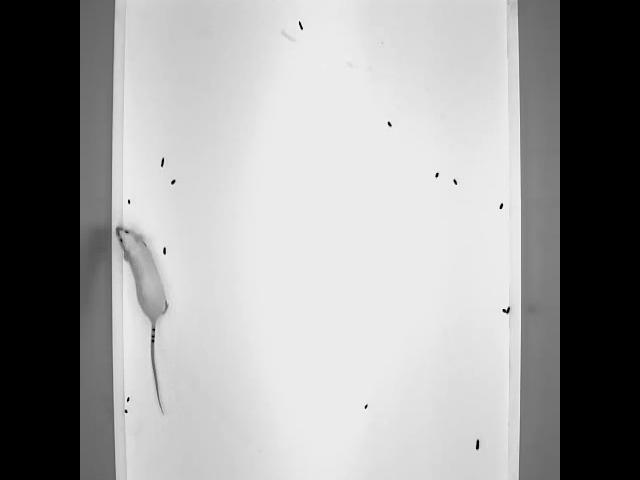Tikus: (114, 221, 170, 416)
